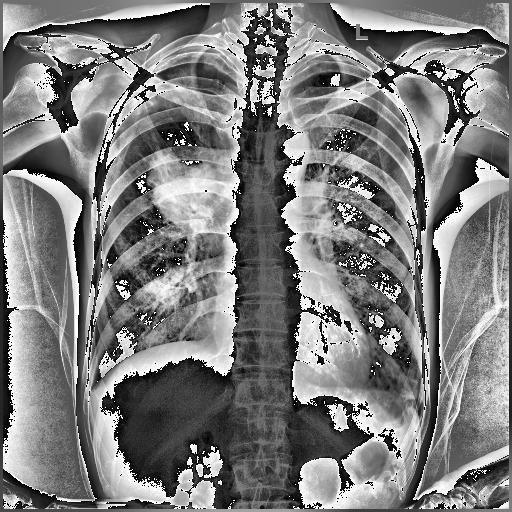10- Pleural effusion: (84, 370, 100, 404)
11- Pleural thickening: (118, 69, 156, 126), (150, 42, 232, 68), (318, 47, 374, 76), (84, 370, 100, 404)
13- Pulmonary fibrosis: (134, 66, 190, 108), (386, 364, 420, 398)
4- Consolidation: (143, 150, 232, 234), (148, 151, 222, 232)
6- Infiltration: (130, 72, 196, 116)
7- Lung Opacity: (145, 154, 221, 232), (130, 72, 196, 116), (145, 266, 192, 312), (391, 378, 425, 402)
8- Nodule-Mass: (143, 150, 232, 234), (148, 151, 222, 232), (145, 154, 221, 232)
